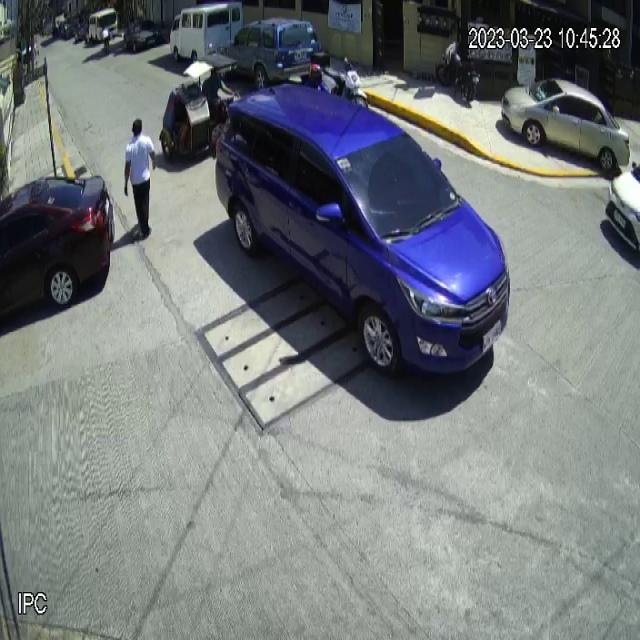Car: (215, 82, 512, 378), (0, 175, 114, 314), (501, 78, 630, 171), (216, 16, 323, 96)
Motorcycle: (312, 54, 368, 120)
Tricycle: (159, 52, 240, 167)
Van: (169, 0, 242, 69)
